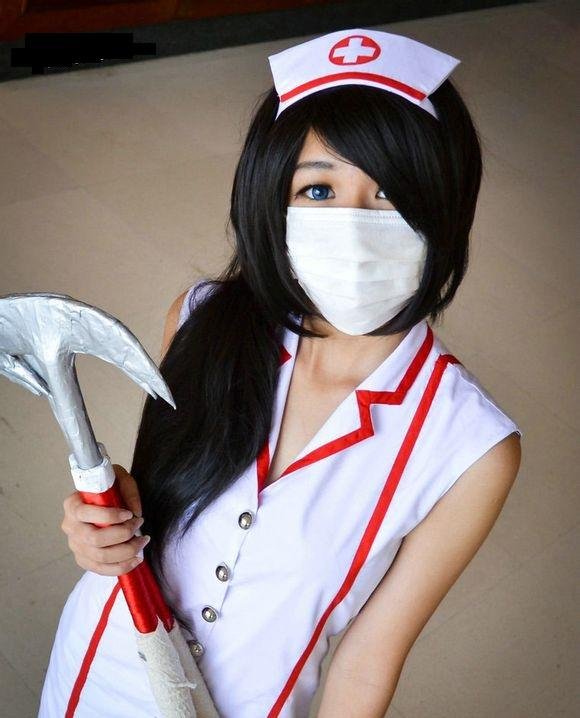OK: (281, 157, 437, 315)
